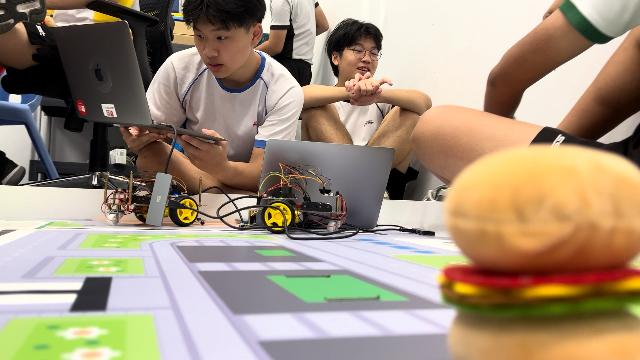burger: (438, 142, 640, 356)
